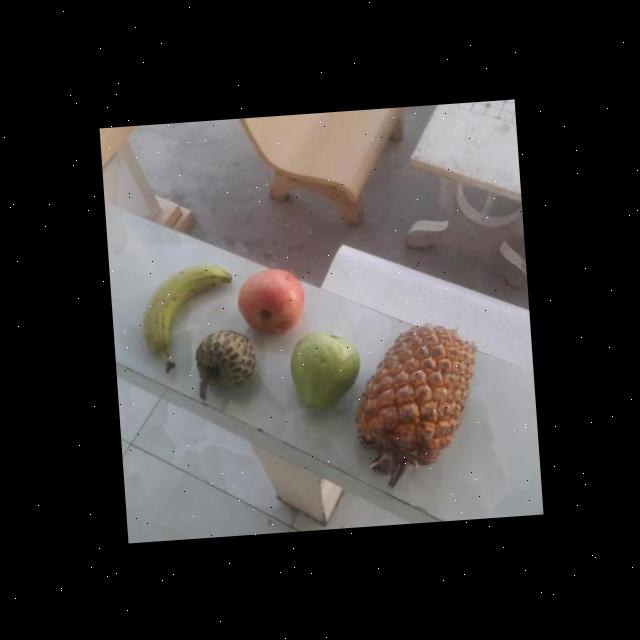Sakya fruit: (192, 326, 260, 395)
apple: (230, 264, 310, 337)
banana: (138, 262, 242, 365)
guava: (286, 328, 364, 409)
pineapple: (352, 318, 487, 467)
